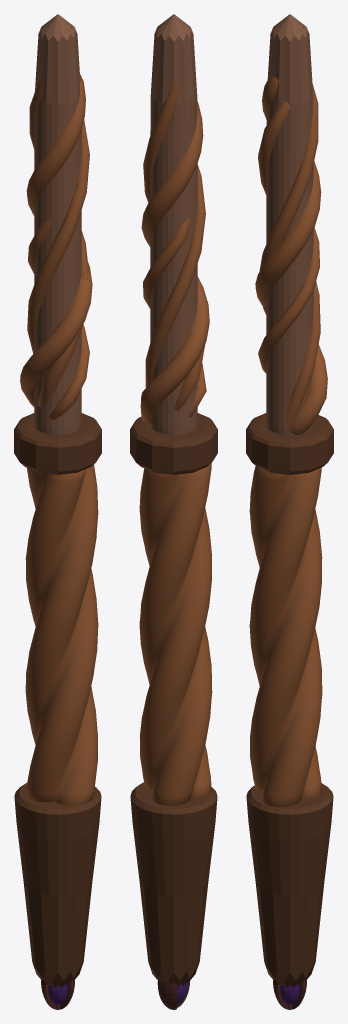
The model's file is Wand 877.glb.
The picture shows the model from 3 angles, left to right: view 1: azimuth 90°, elevation 25°; view 2: azimuth 150°, elevation 25°; view 3: azimuth 270°, elevation 25°; orthographic projection.
Visible parts, largest first — view 1: GeneratedWand; view 2: GeneratedWand; view 3: GeneratedWand.
Boxes of the visible parts, box(x1,y1,x2,y2) form: GeneratedWand: box(14, 14, 101, 1009); GeneratedWand: box(130, 14, 217, 1009); GeneratedWand: box(246, 14, 333, 1009).
Bounding box in the file's own units: 0.0398 × 0.4966 × 0.0398.
